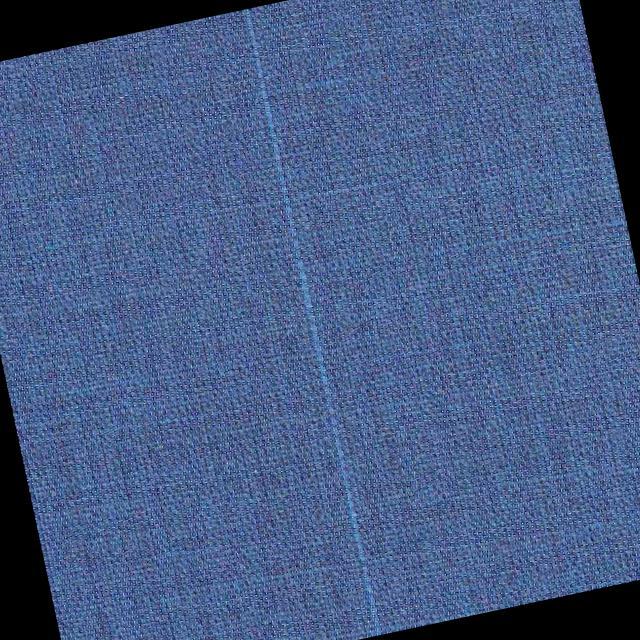Warp_Weft: (237, 8, 387, 637)
